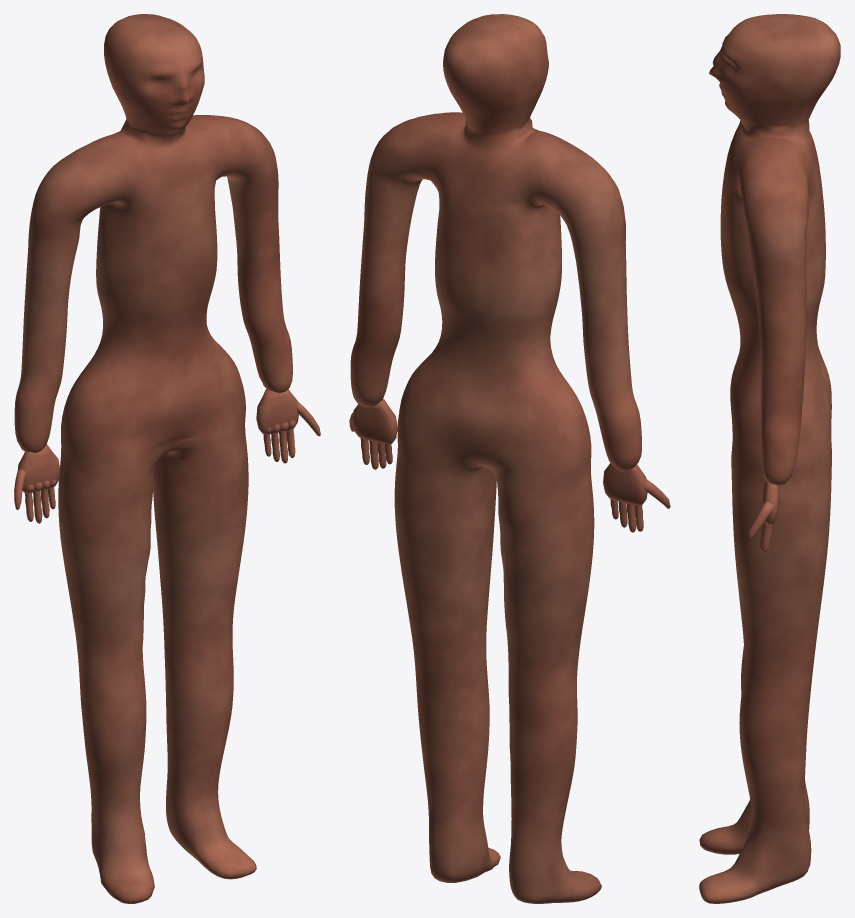
File: heroi_julia_bracos_maos_wip.glb
3 views of the same model, side by side, from view 1: azimuth 30°, elevation 25°; view 2: azimuth 150°, elevation 25°; view 3: azimuth 270°, elevation 25° (orthographic). The views are drawn at different scales.
Parts seen in each view (by area): view 1: JuliaBase; view 2: JuliaBase; view 3: JuliaBase.
Part boxes in pixels (x1,y1,x2,y2): JuliaBase: (14,14,320,903); JuliaBase: (349,14,670,903); JuliaBase: (699,14,840,903).
Bounding box in the file's own units: 0.653 × 1.72 × 0.2586.
Materials: 1 (1 with a texture image).
